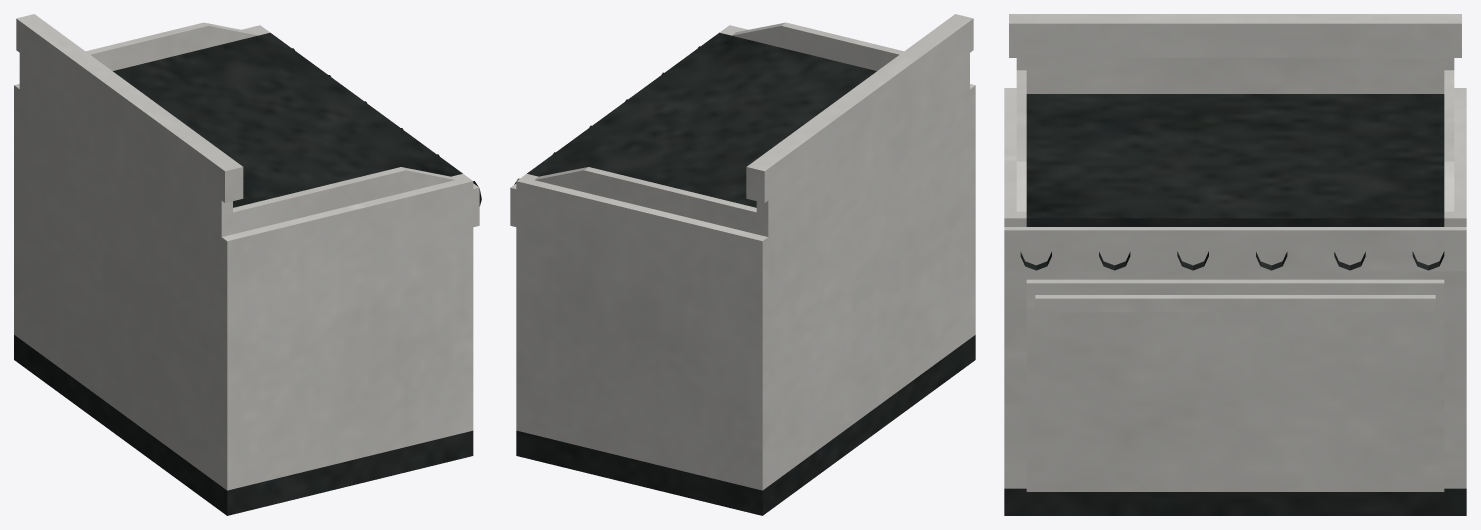
The model's file is commerical_flat_top.glb.
3 renders of one model, left to right at view 1: azimuth 30°, elevation 25°; view 2: azimuth 150°, elevation 25°; view 3: azimuth 270°, elevation 25°, orthographic. The views are drawn at different scales.
Visible parts, largest first — view 1: Cube.001; view 2: Cube.001; view 3: Cube.001.
Part boxes in pixels (<box>): Cube.001: <box>14,14,481,515</box>; Cube.001: <box>510,14,975,515</box>; Cube.001: <box>1004,14,1466,515</box>.
Bounding box in the file's own units: 4.26 × 5.33 × 6.
Materials: 2 (2 with a texture image).
